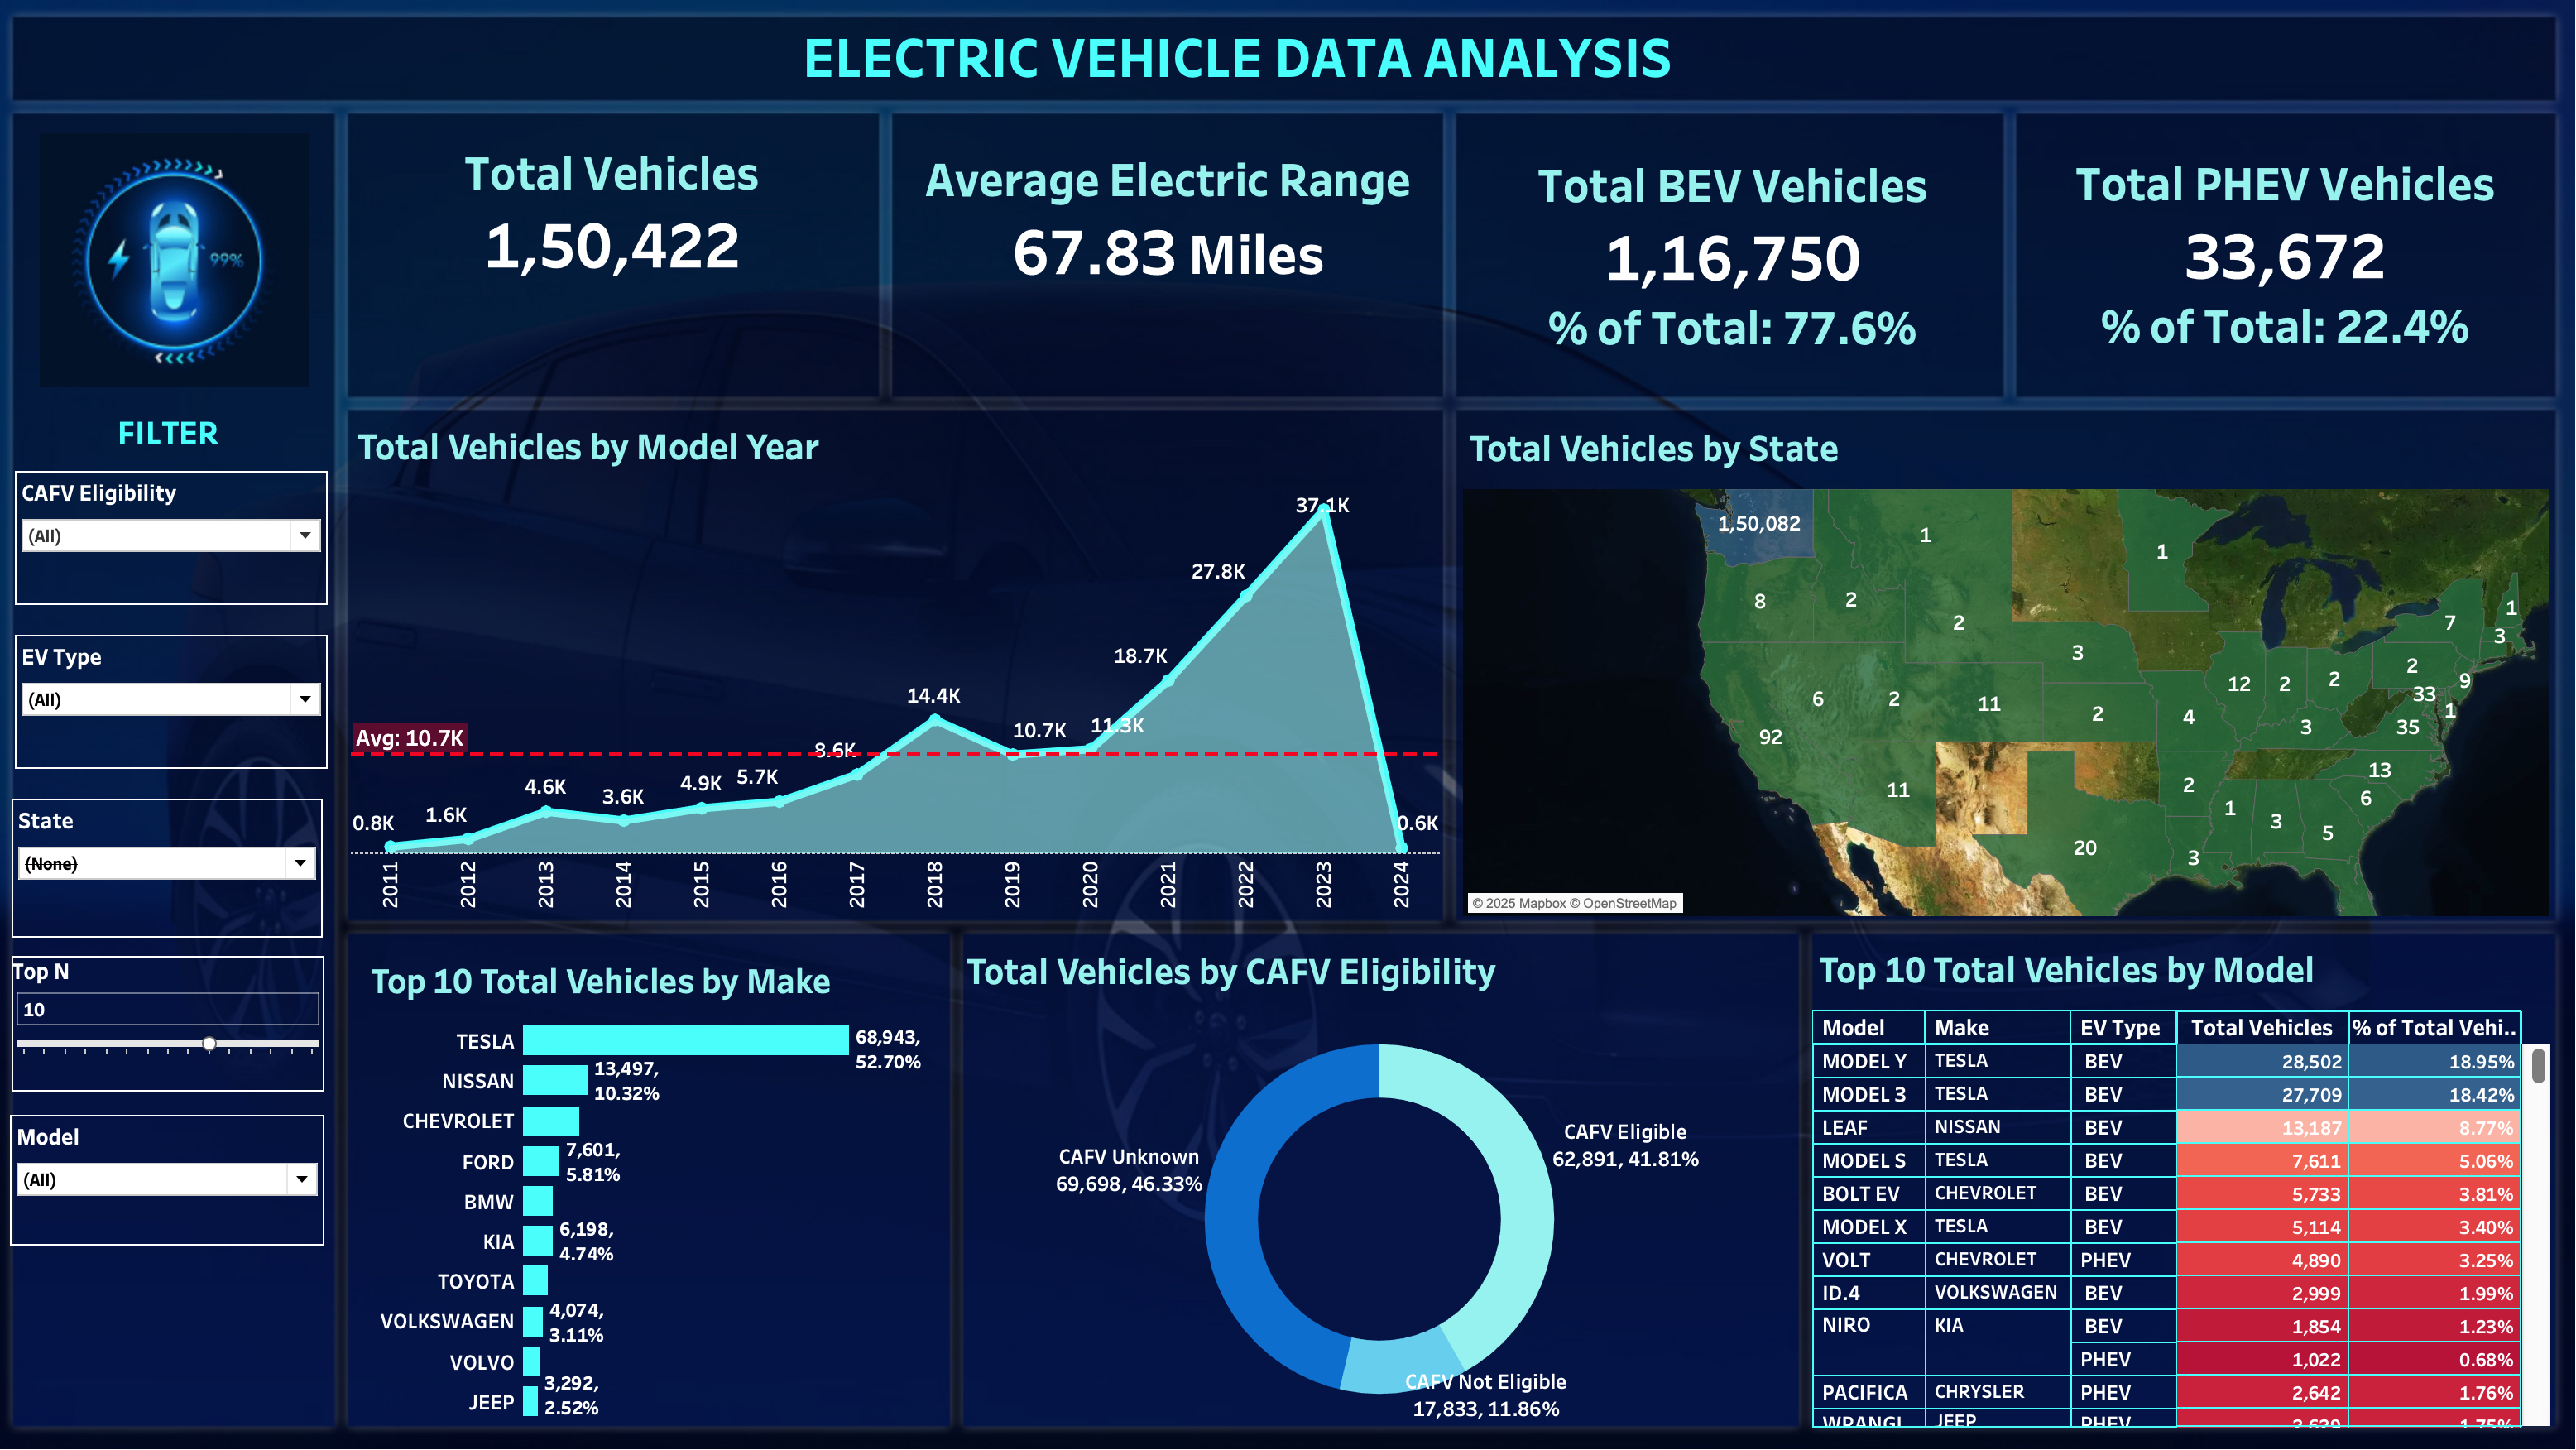

The dashboard page shown, as its layout file describes it:
{"tool":"tableau","page":{"name":"Electric Vehicle Data Analysis","canvas":[1600,900],"ordinal":0},"visuals":[{"type":"image","param":"/Volumes/Untitled/Data Science/Tableau/Electric Vehicle Dashboard/Images/Backgro","box":[8,8,1584,884]},{"type":"text","box":[502,21,536,50]},{"type":"worksheet","title":"Total Vehicles","mark":"Automatic","box":[233,83,318,162]},{"type":"worksheet","title":"Total PHEV Vehicles","mark":"Automatic","box":[1241,83,324,165]},{"type":"worksheet","title":"Total BEV Vehicles","mark":"Automatic","box":[905,84,328,166]},{"type":"worksheet","title":"Average Electric Range","mark":"Automatic","box":[564,85,328,164]},{"type":"image","param":"/Volumes/Untitled/Data Science/Tableau/Electric Vehicle Dashboard/Images/logo.pn","box":[46,88,163,163]},{"type":"text","box":[74,258,100,30]},{"type":"worksheet","title":"Total Vehicles by Model Year ","mark":"Area","rows":["Calculation_133489519998590976","Calculation_133489519998590976"],"cols":["Model Year"],"box":[234,263,658,305]},{"type":"worksheet","title":"Total Vehicles by State","mark":"Multipolygon","box":[906,264,656,302]},{"type":"filter","title":"Total Vehicles by Model Year ","param":"[federated.1sj6jbv1hd4g2b141ot6f0thf4y5].[none:Clean Alternative Fuel Vehicle (C","box":[31,297,189,81]},{"type":"filter","title":"Total Vehicles by Model Year ","param":"[federated.1sj6jbv1hd4g2b141ot6f0thf4y5].[none:Electric Vehicle Type:nk]","box":[31,396,189,81]},{"type":"filter","title":"Total Vehicles by Model Year ","param":"[federated.1sj6jbv1hd4g2b141ot6f0thf4y5].[none:State:nk]","box":[29,495,188,84]},{"type":"worksheet","title":"Top 10 Total Vehicles by Model","mark":"Square","rows":["Model","Make","Electric Vehicle Type"],"box":[1117,579,446,296]},{"type":"worksheet","title":"Total Vehicles by CAFV Eligibility","mark":"Pie","rows":["Calculation_133489520035524619","Calculation_133489520035553293"],"box":[602,580,507,294]},{"type":"worksheet","title":"Top 10 Total Vehicles by Make","mark":"Automatic","rows":["Make"],"cols":["Calculation_133489519998590976"],"box":[242,587,351,284]},{"type":"parameter","param":"[Parameters].[Parameter 1]","box":[29,590,189,82]},{"type":"filter","title":"Total Vehicles by Model Year ","param":"[federated.1sj6jbv1hd4g2b141ot6f0thf4y5].[none:Model:nk]","box":[28,686,190,79]}]}

Visuals, with their boxes in screenshot pixels (x1, y1, x2, y2), scaled from the page's 1600x900 canvas onto the 2576x1450 screenshot:
image: bbox(13, 13, 2563, 1437)
text: bbox(808, 34, 1672, 114)
"Total Vehicles" worksheet: bbox(375, 134, 887, 395)
"Total PHEV Vehicles" worksheet: bbox(1998, 134, 2520, 400)
"Total BEV Vehicles" worksheet: bbox(1457, 136, 1985, 403)
"Average Electric Range" worksheet: bbox(908, 137, 1436, 401)
image: bbox(74, 142, 337, 405)
text: bbox(119, 415, 281, 464)
"Total Vehicles by Model Year " worksheet (Area marks): bbox(377, 424, 1436, 915)
"Total Vehicles by State" worksheet (Multipolygon marks): bbox(1459, 425, 2515, 912)
"Total Vehicles by Model Year " filter: bbox(50, 478, 354, 609)
"Total Vehicles by Model Year " filter: bbox(50, 638, 354, 769)
"Total Vehicles by Model Year " filter: bbox(46, 798, 349, 933)
"Top 10 Total Vehicles by Model" worksheet (Square marks): bbox(1798, 933, 2516, 1409)
"Total Vehicles by CAFV Eligibility" worksheet (Pie marks): bbox(969, 934, 1786, 1408)
"Top 10 Total Vehicles by Make" worksheet: bbox(390, 946, 955, 1404)
parameter: bbox(46, 951, 351, 1083)
"Total Vehicles by Model Year " filter: bbox(45, 1105, 351, 1232)
